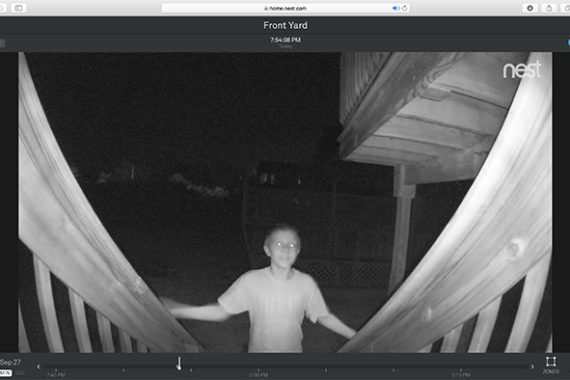person: (149, 201, 360, 352)
